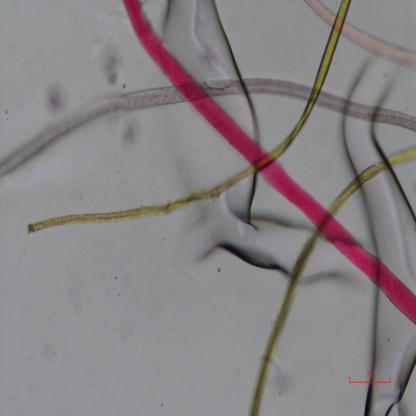Background material: (347, 292, 416, 416), (197, 199, 288, 278), (158, 0, 240, 73), (363, 166, 416, 271), (331, 113, 386, 162), (346, 60, 400, 106), (306, 256, 350, 299), (39, 75, 72, 117), (100, 41, 123, 84), (239, 90, 262, 131), (272, 363, 294, 397)
Microfibre: (123, 0, 416, 325), (25, 0, 350, 234), (0, 76, 416, 178), (306, 0, 416, 68)
